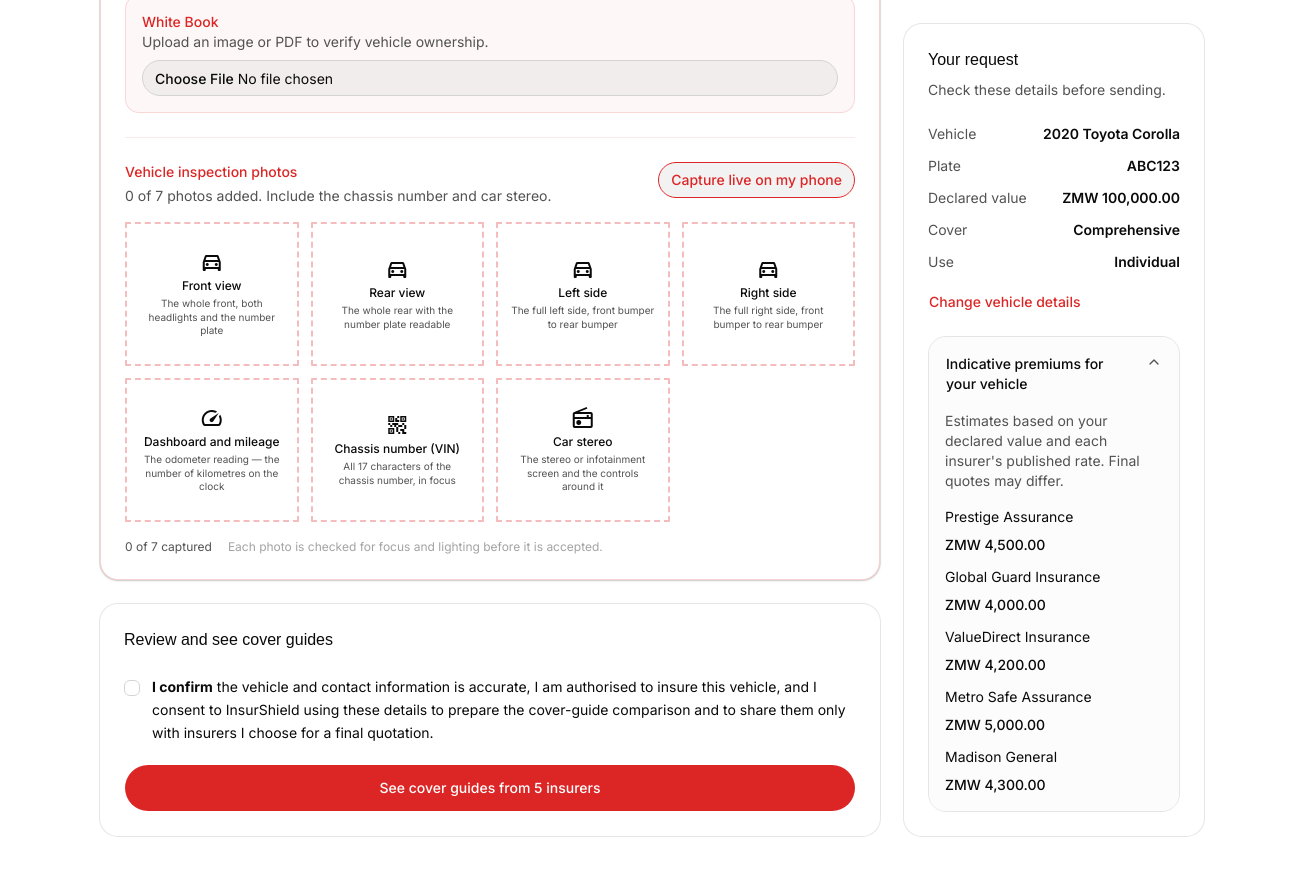
quote request requirements › blocks an anniversary request without the registration date and preserves the form
(page scrolled)
Click the button "See cover guides from 5 insurers": (490,788) [124, 764, 856, 812]
(page scrolled)
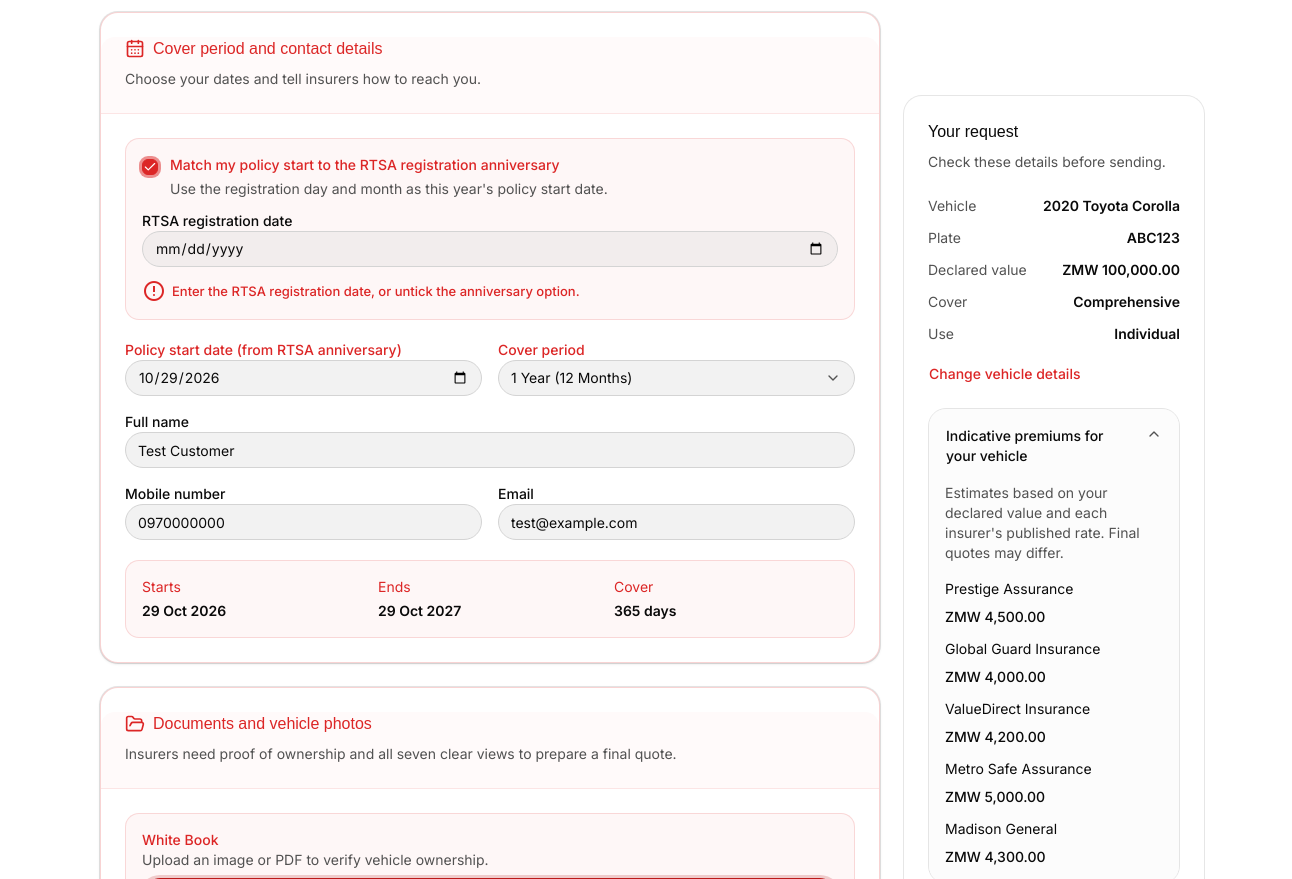
Expected: the date field labelled "RTSA registration date" is shown, [142, 231, 838, 267]
Expected: the text "Enter the RTSA registration date, or untick the anniversary option." is shown, [142, 277, 580, 305]
